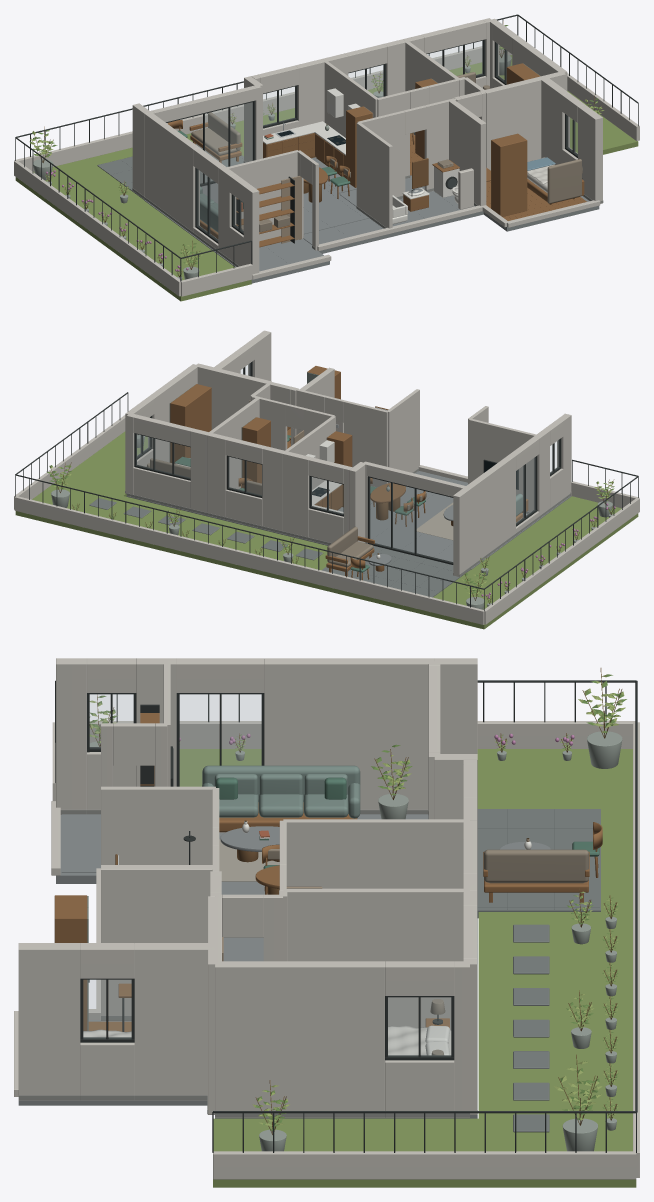
Rendered from apartment-v2.glb.
3 views of the same model, one above another, from view 1: azimuth 30°, elevation 25°; view 2: azimuth 150°, elevation 25°; view 3: azimuth 270°, elevation 25° (orthographic). The views are drawn at different scales.
Visible parts, largest first — view 1: GD_Garden lawn, GD_West facade pier 0, GD_Garden boundary North, GD_Main south end, GD_Bath west, GD_Garden boundary West, GD_Guest wardrobe carcass, GD_Bath guest, GD_Store north, GD_Guest east end, GD_Apartment slab, GD_Guest east pier 0 (+55 smaller); view 2: GD_Garden lawn, GD_Garden boundary North, GD_West facade pier 0, GD_Living finish, GD_Patio, GD_Store north, GD_Garden boundary West, GD_Bath north pier 0, GD_Bath west, GD_Main south end, GD_North kitchen end, GD_Main wardrobe carcass (+47 smaller); view 3: GD_Garden lawn, GD_Main east end, GD_West facade pier 0, GD_Main partition end, GD_Kitchen child end, GD_Garden boundary East, GD_Guest east pier 0, GD_Guest east end, GD_Bath guest, GD_Bath west, GD_Patio, GD_Garden boundary West (+51 smaller).
Part boxes in pixels (x1,y1,x2,y2): GD_Garden lawn: [15, 55, 638, 301]; GD_West facade pier 0: [144, 113, 199, 231]; GD_Garden boundary North: [14, 45, 512, 171]; GD_Main south end: [483, 71, 565, 170]; GD_Bath west: [356, 122, 392, 228]; GD_Garden boundary West: [14, 161, 180, 296]; GD_Guest wardrobe carcass: [491, 133, 527, 216]; GD_Bath guest: [449, 99, 486, 205]; GD_Store north: [224, 150, 297, 241]; GD_Guest east end: [578, 105, 602, 203]; GD_Apartment slab: [144, 175, 599, 283]; GD_Guest east pier 0: [540, 77, 569, 164]; GD_Garden lawn: [15, 431, 638, 629]; GD_Garden boundary North: [14, 496, 484, 624]; GD_West facade pier 0: [466, 454, 515, 565]; GD_Living finish: [370, 486, 527, 561]; GD_Patio: [322, 545, 471, 597]; GD_Store north: [468, 418, 538, 511]; GD_Garden boundary West: [484, 498, 639, 624]; GD_Bath north pier 0: [344, 400, 387, 487]; GD_Bath west: [387, 389, 419, 483]; GD_Main south end: [195, 363, 271, 429]; GD_North kitchen end: [282, 451, 311, 539]; GD_Main wardrobe carcass: [170, 384, 211, 463]; GD_Garden lawn: [179, 749, 636, 1187]; GD_Main east end: [215, 961, 384, 1117]; GD_West facade pier 0: [264, 658, 434, 809]; GD_Main partition end: [283, 888, 469, 1030]; GD_Kitchen child end: [283, 819, 469, 888]; GD_Garden boundary East: [213, 1151, 636, 1179]; GD_Guest east pier 0: [134, 943, 214, 1100]; GD_Guest east end: [18, 943, 80, 1100]; GD_Bath guest: [101, 865, 215, 1020]; GD_Bath west: [101, 786, 215, 864]; GD_Patio: [477, 809, 600, 918]; GD_Garden boundary West: [89, 721, 635, 748].
Size of the model in its own units: 17.56 by 3.03 by 10.72.
